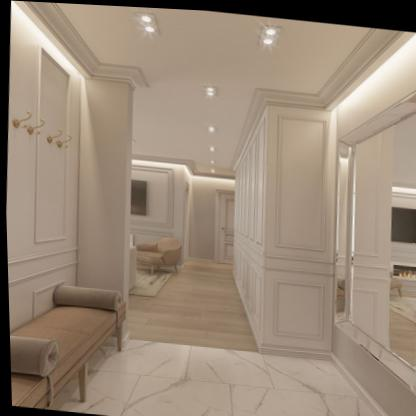Futec frame: (253, 102, 338, 359), (24, 44, 75, 245)
Wooden floor: (126, 256, 253, 349)
